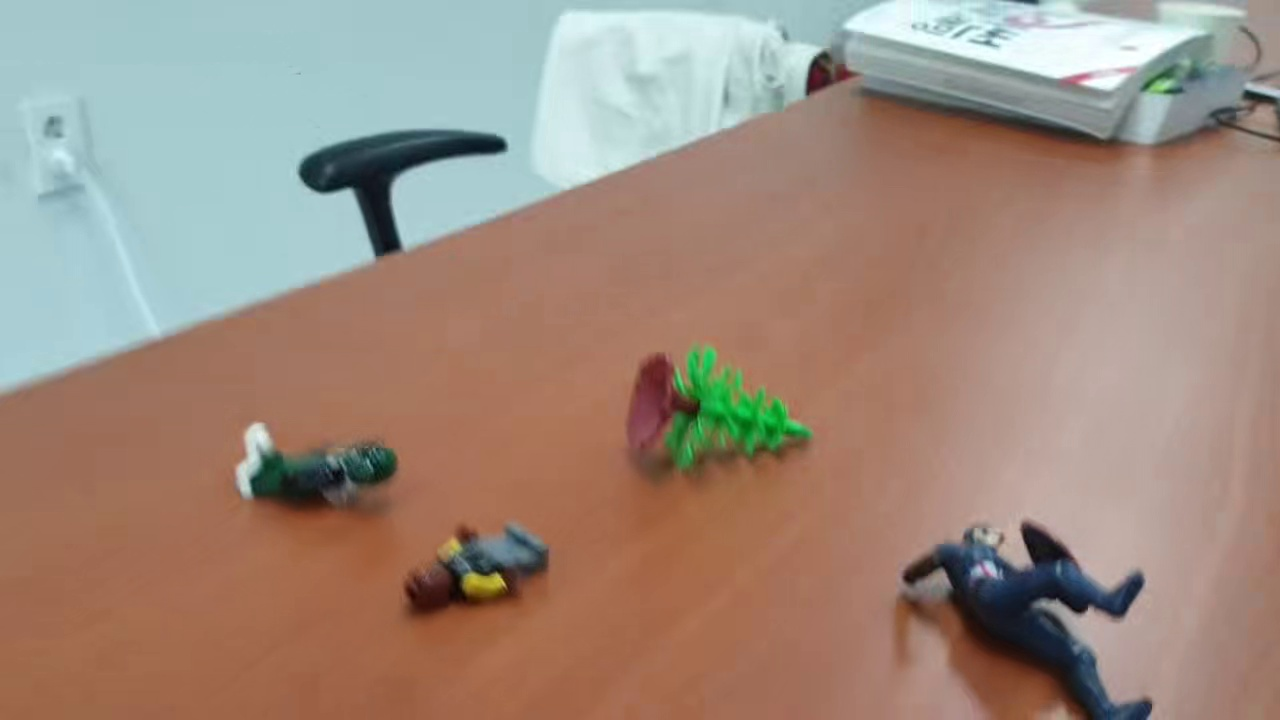people: (903, 517, 1163, 720), (235, 417, 399, 511), (401, 519, 551, 613)
tree: (624, 340, 813, 471)
